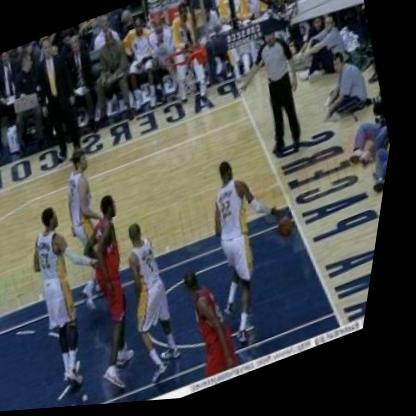basketball: (275, 209, 311, 249)
